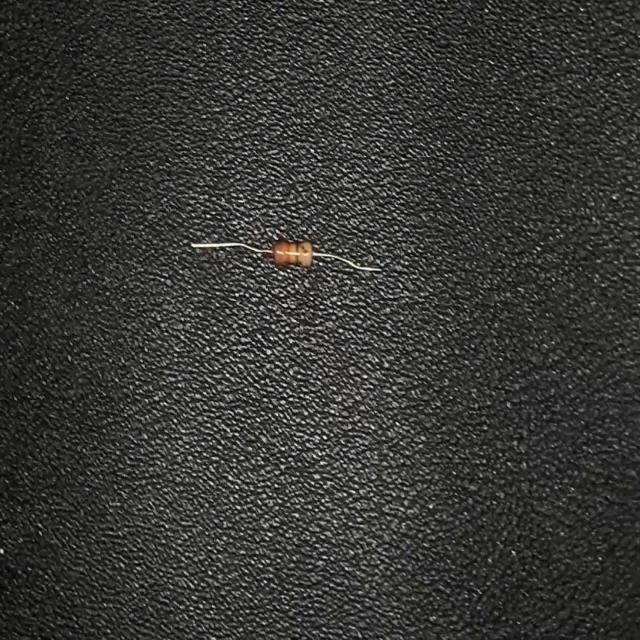burnt: (272, 239, 287, 267)
faded: (300, 242, 310, 268)
resistor: (191, 233, 384, 279)
